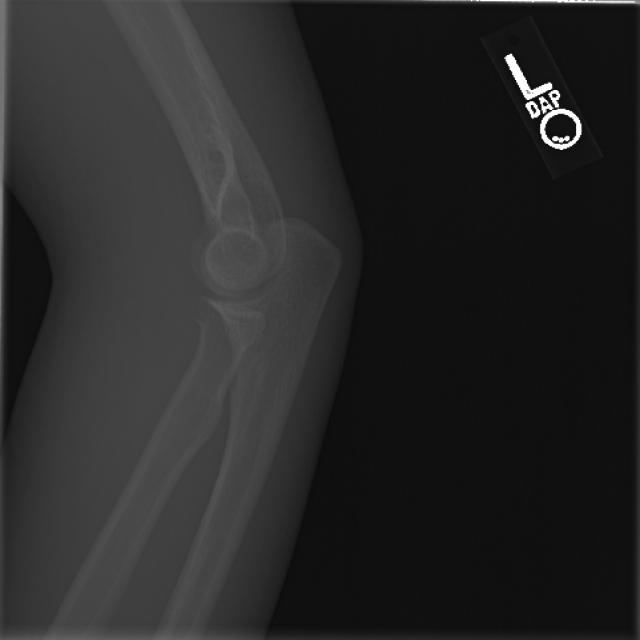humerus fracture: (122, 295, 281, 486)
